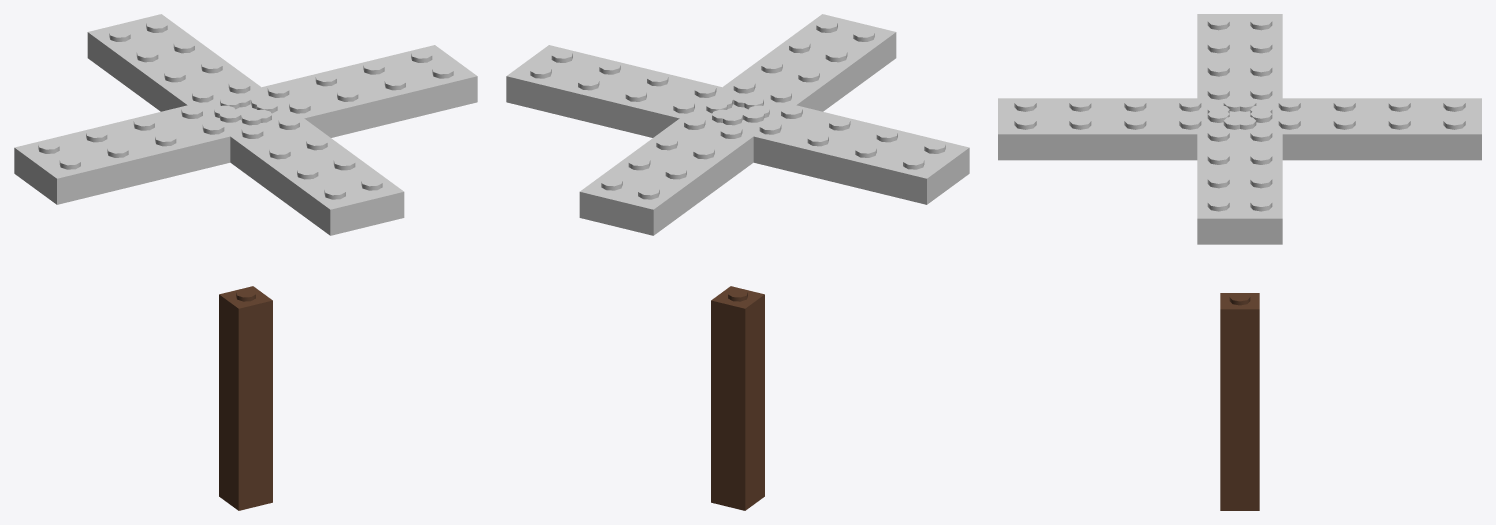
File: LegoPalm.glb
3 views of the same model, side by side, from view 1: azimuth 30°, elevation 25°; view 2: azimuth 150°, elevation 25°; view 3: azimuth 270°, elevation 25° (orthographic).
Visible parts, largest first — view 1: LegoPalm; view 2: LegoPalm; view 3: LegoPalm.
Boxes of the visible parts, box(x1,y1,x2,y2) form: LegoPalm: box(14, 14, 477, 510); LegoPalm: box(506, 14, 969, 510); LegoPalm: box(998, 14, 1481, 510).
Bounding box in the file's own units: 7.4 × 6.59 × 7.4.
